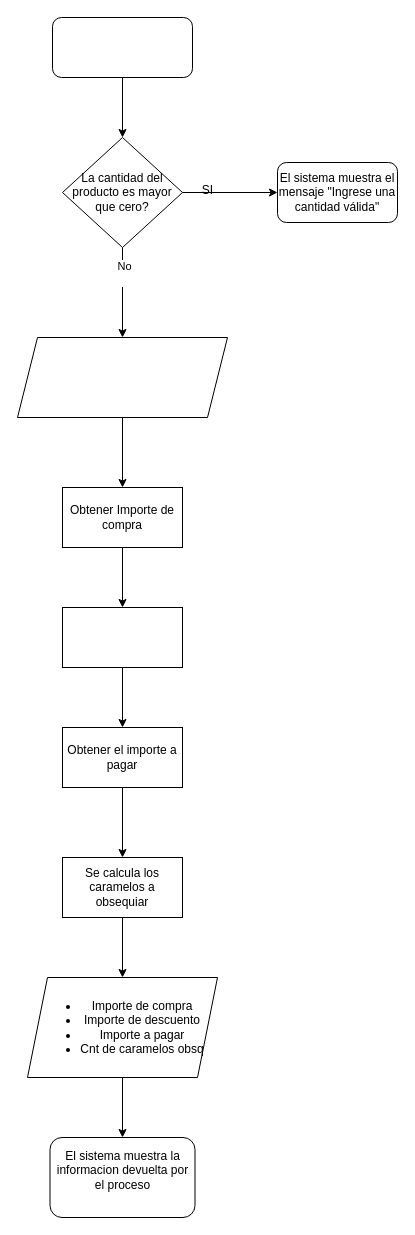
The diagram is 415 pixels wide and 1235 high, and some of its shapes have lost their labels. The centre of each missing label's shape, as x and y in pixels:
El usuario ingresa los datos: point (122, 47)
Obtener Importe de descuento: point (122, 637)
Precio del producto Cantidad del producto: point (122, 377)
